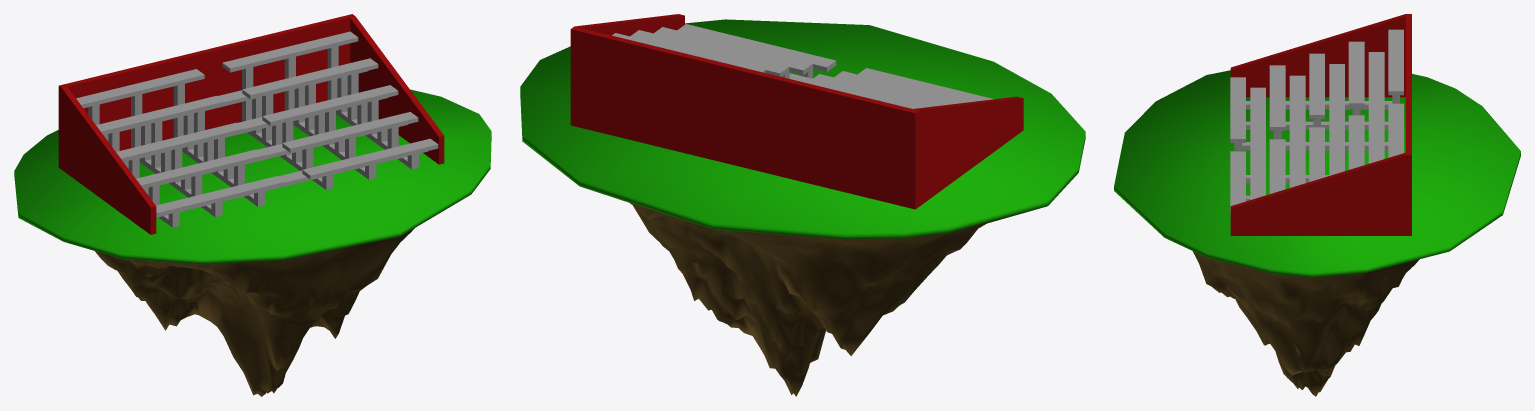
The model's file is FloatingStands1 Old.fbx.
3 renders of one model, left to right at view 1: azimuth 30°, elevation 25°; view 2: azimuth 150°, elevation 25°; view 3: azimuth 270°, elevation 25°, orthographic. The views are drawn at different scales.
Visible parts, largest first — view 1: Landscape.010, Cube.004, Cube.006; view 2: Landscape.010, Cube.006, Cube.004; view 3: Landscape.010, Cube.004, Cube.006.
Part boxes in pixels (box(x1,y1,x2,y2)): Landscape.010: box(14, 89, 491, 396); Cube.004: box(76, 31, 438, 227); Cube.006: box(58, 14, 444, 234); Landscape.010: box(520, 19, 1085, 396); Cube.006: box(570, 14, 1023, 209); Cube.004: box(612, 24, 993, 108); Landscape.010: box(1114, 70, 1520, 396); Cube.004: box(1230, 29, 1403, 216); Cube.006: box(1230, 14, 1411, 235).
Bounding box in the file's own units: 2500 × 1675 × 2000.
